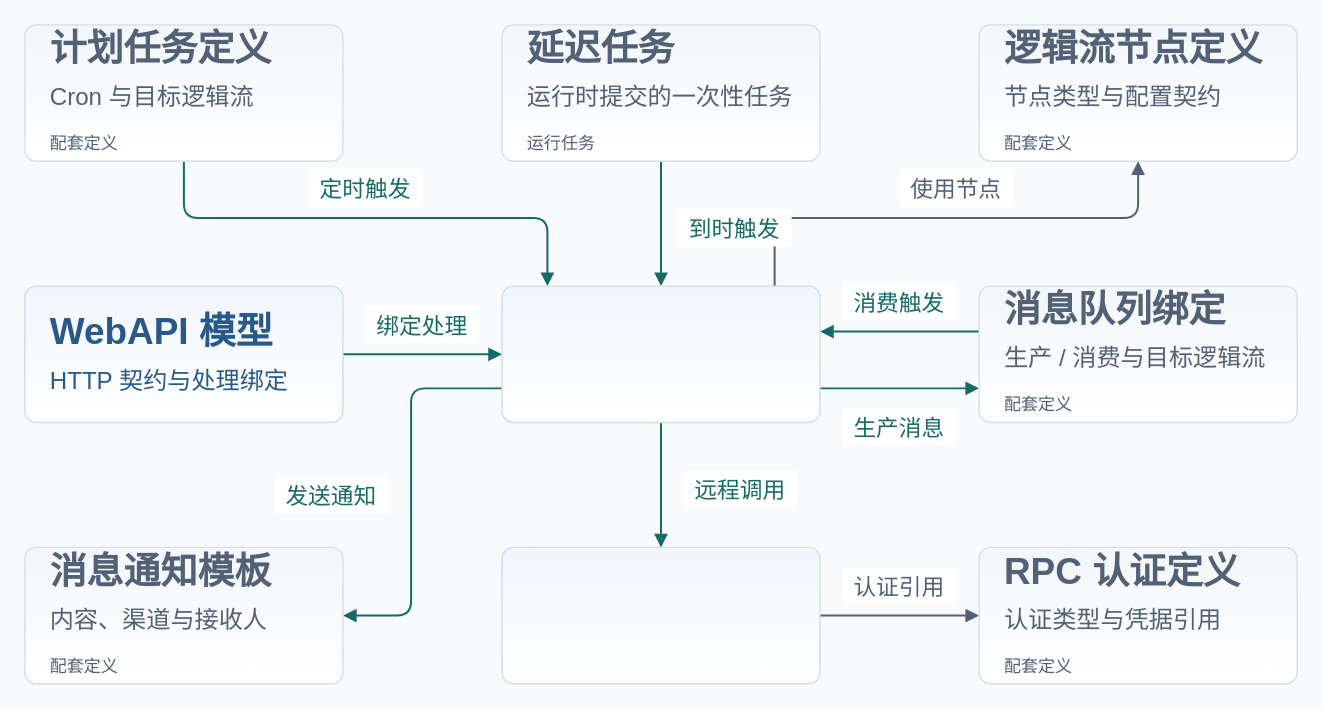
The diagram is 1322 pixels wide and 709 high, and some of its shapes have lost their labels. The box of each missing label's shape, as (x1, y1, x2, y2) in pixels:
RPC 模型 外部调用与协议契约: (501, 546, 820, 684)
逻辑流模型 节点、连线与执行上下文: (501, 285, 820, 422)
